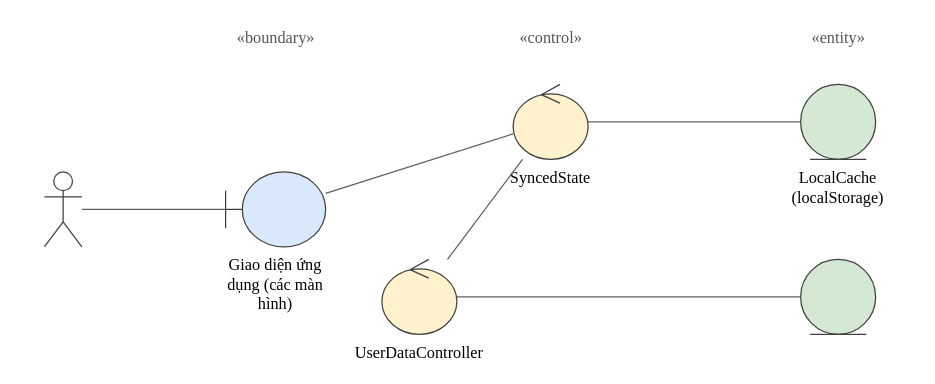
This 935x384 diagram has some shape labels left out. The shapes that lost their labels are listed below. From the top down, each one's centre as x and y in pixels, then its label:
At (x=62, y=209): "Người dùng".
At (x=837, y=296): "UserData".
